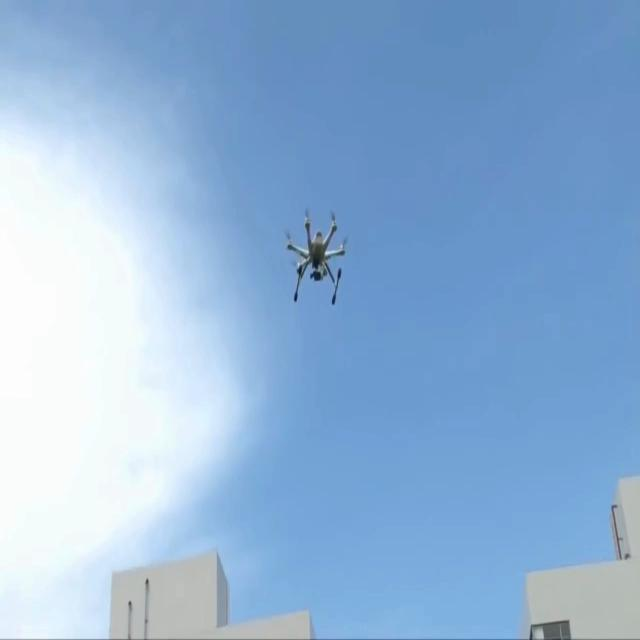drone: (284, 208, 348, 306)
